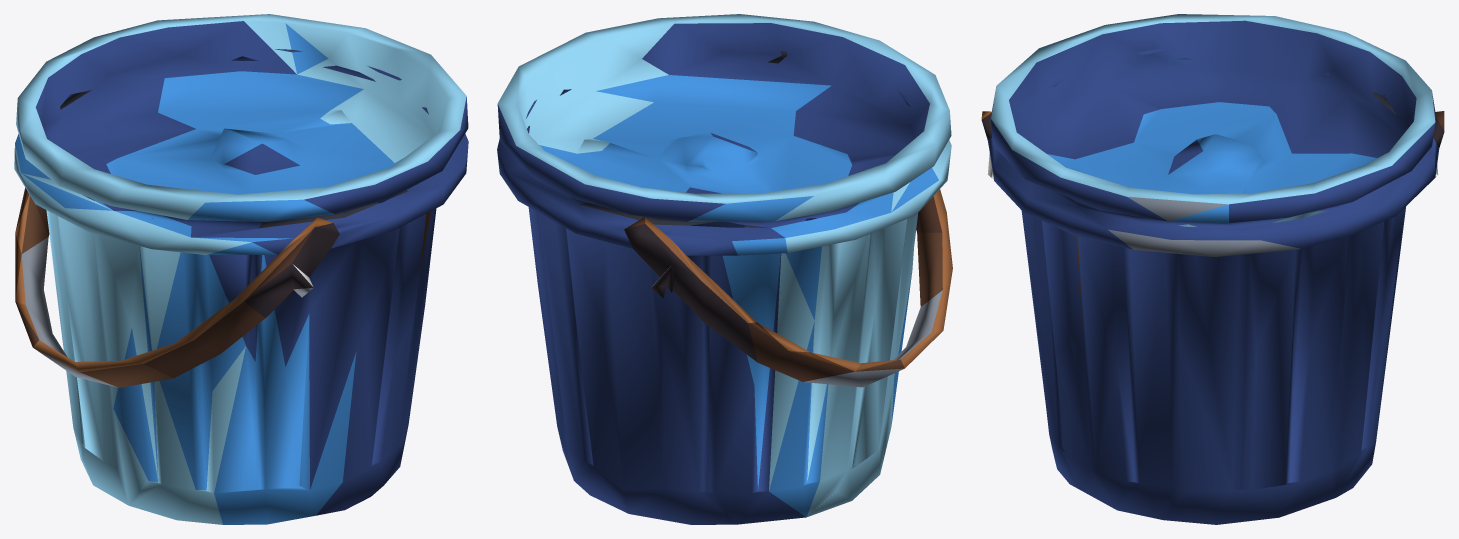
The model's file is SM_bucket_blue.fbx.
3 renders of one model, left to right at view 1: azimuth 30°, elevation 25°; view 2: azimuth 150°, elevation 25°; view 3: azimuth 270°, elevation 25°, orthographic.
Parts seen in each view (by area): view 1: SM_bucket_blue; view 2: SM_bucket_blue; view 3: SM_bucket_blue.
Boxes of the visible parts, bbox=[...] form: SM_bucket_blue: bbox=[14, 14, 468, 524]; SM_bucket_blue: bbox=[497, 14, 952, 524]; SM_bucket_blue: bbox=[981, 14, 1444, 524].
Bounding box in the file's own units: 53.34 × 45 × 53.94.
Materials: 1 (1 with a texture image).
